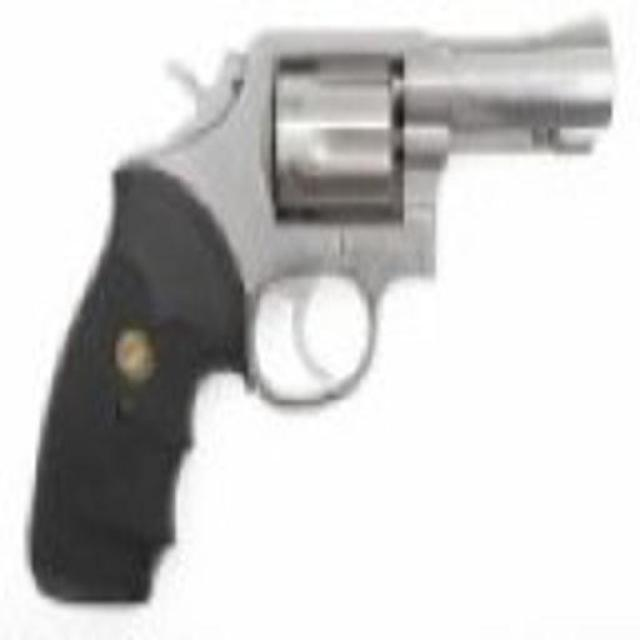pistol: (15, 5, 620, 596)
